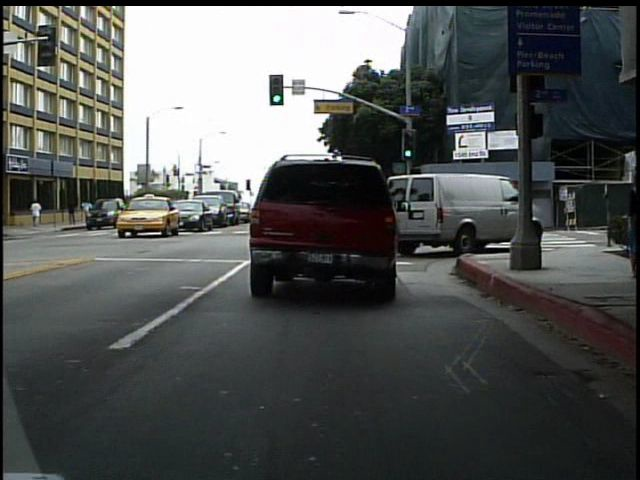person: (484, 175, 505, 235), (30, 196, 46, 230)
